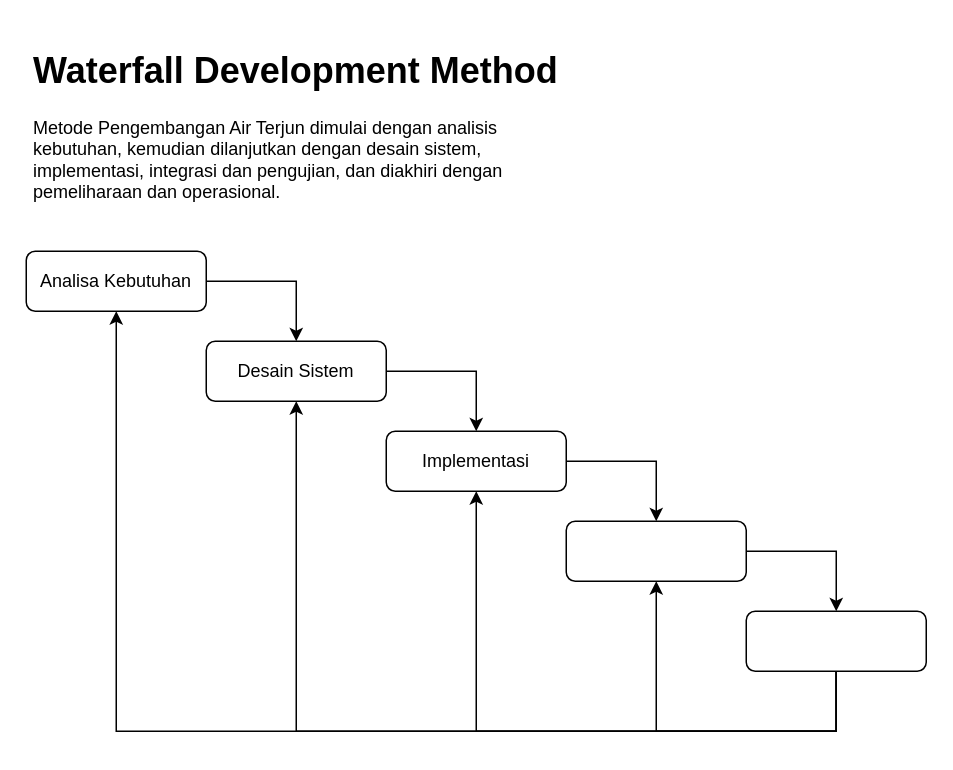
Some shapes in this 953 by 770 pixel diagram are drawn without their labels. Here are the shapes that lost their labels. From the top down, the box of each, then its label:
(565, 520, 746, 581): Integrasi dan Pengujian
(745, 610, 926, 671): Pemeliharaan & Operasional
